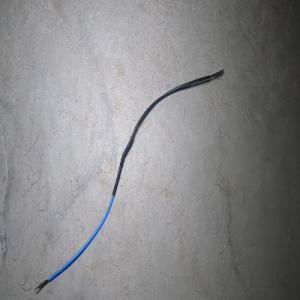Wire: (34, 68, 224, 292)
